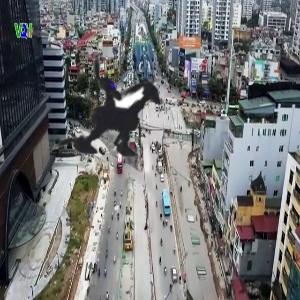drone: (8, 12, 234, 238)
